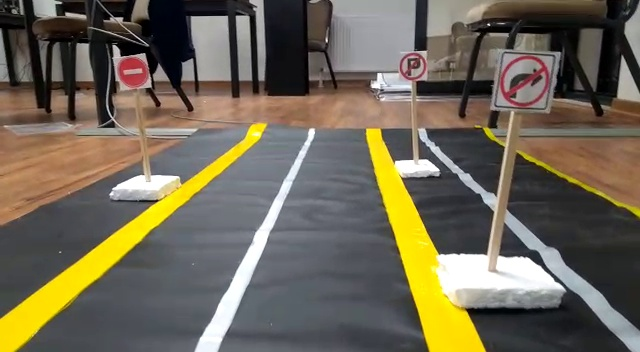girisi_olmayan_yol: (114, 55, 150, 89)
park_yapilmaz: (398, 50, 430, 80)
saga_donulmez: (500, 49, 551, 107)
